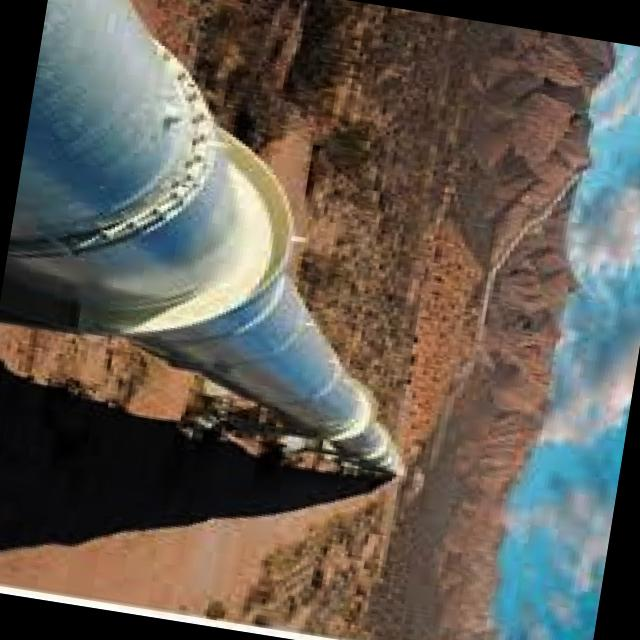gas: (0, 0, 398, 476)
